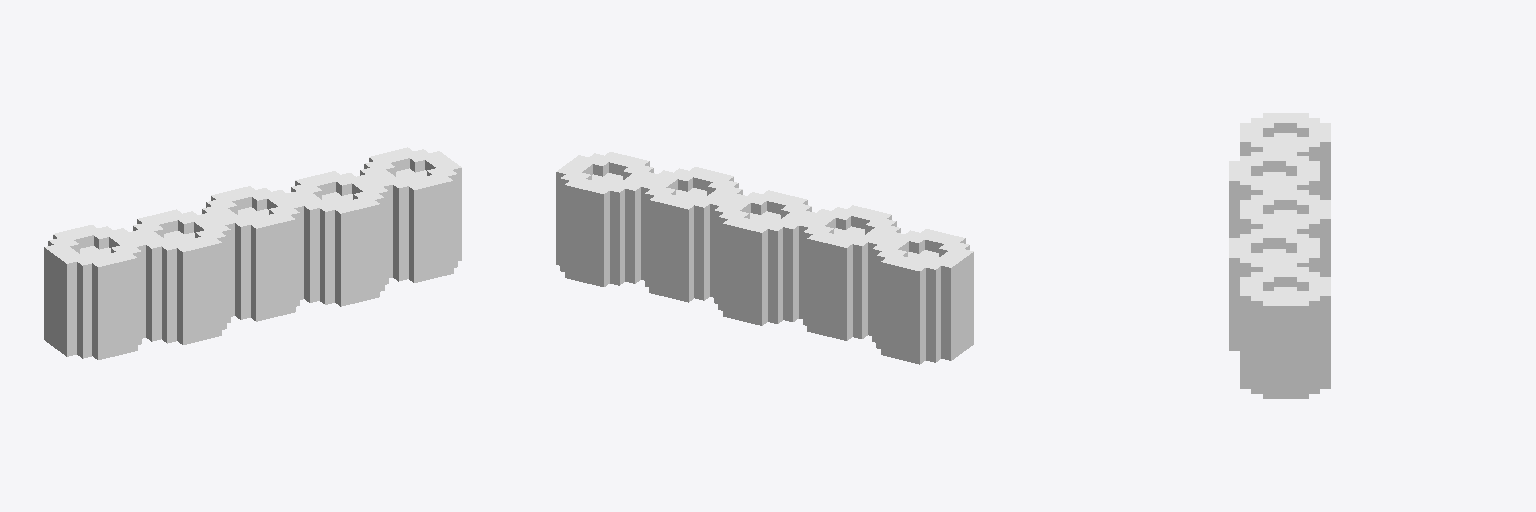
The model's file is prop_tire_2_5row.obj.
3 views of the same model, side by side, from view 1: azimuth 30°, elevation 25°; view 2: azimuth 150°, elevation 25°; view 3: azimuth 270°, elevation 25° (orthographic).
Visible parts, largest first — view 1: object 1; view 2: object 1; view 3: object 1.
Part boxes in pixels (left/top/right/bottom): object 1: left=44, top=147, right=461, bottom=359; object 1: left=556, top=152, right=973, bottom=364; object 1: left=1229, top=113, right=1330, bottom=398.
Size of the model in its own units: 4 by 0.9 by 0.9.